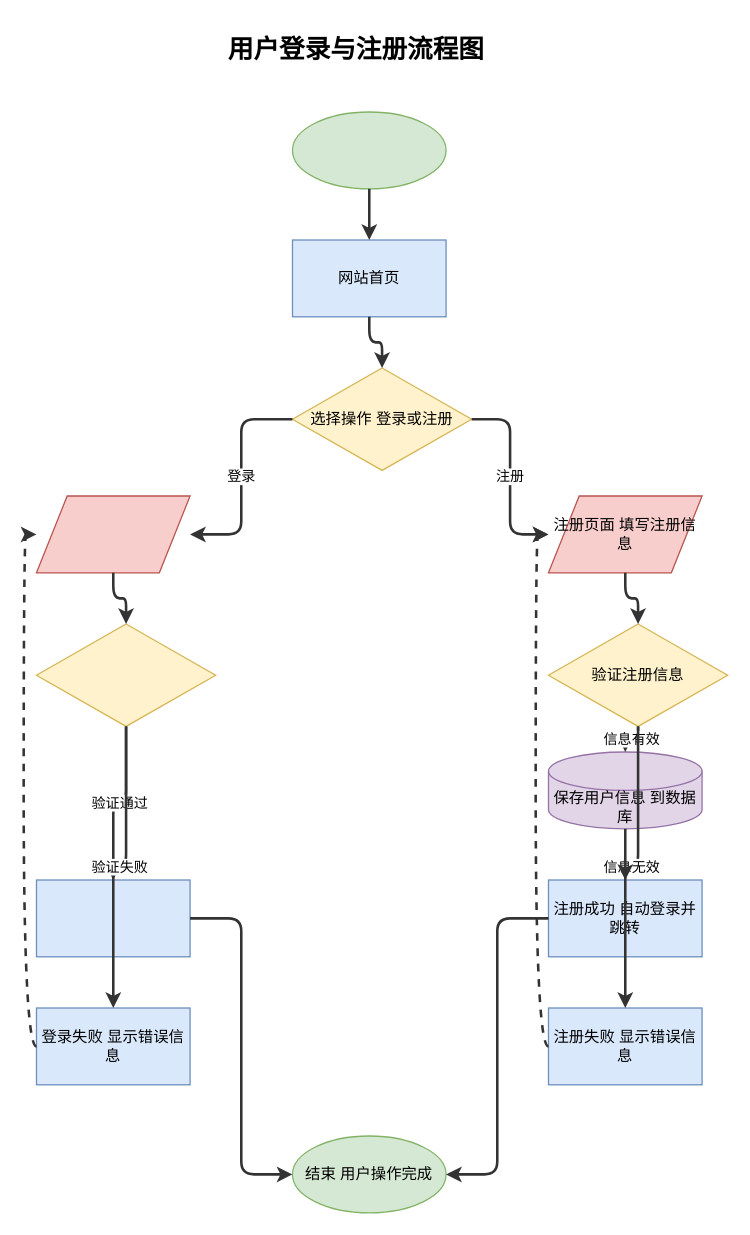
This 750x1235 diagram has some shape labels left out. Here are the shapes that lost their labels. From the top down, the box of each, then its label:
(291, 111, 446, 189): 开始 用户访问网站
(35, 495, 190, 573): 登录页面 输入用户名密码
(35, 623, 216, 726): 验证登录信息
(35, 879, 190, 957): 登录成功 跳转到用户主页
